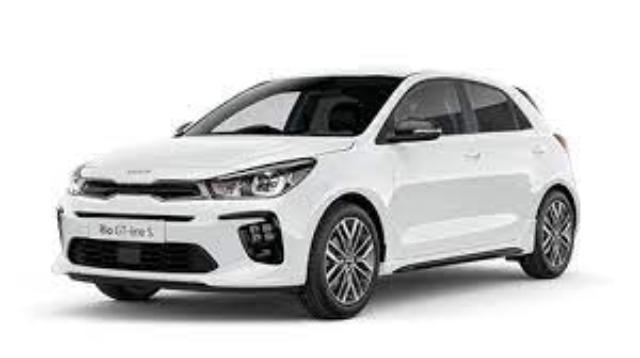kia: (52, 69, 580, 320)
